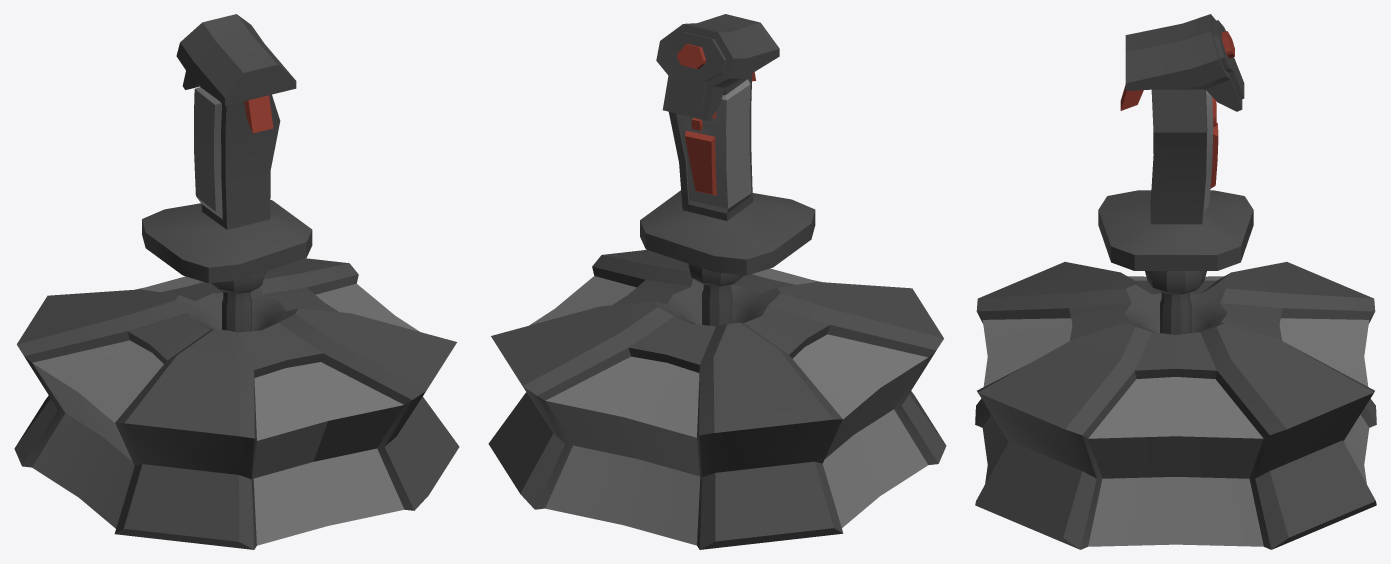
File: Spaceship_Joystick_01.fbx
The picture shows the model from 3 angles, left to right: view 1: azimuth 30°, elevation 25°; view 2: azimuth 150°, elevation 25°; view 3: azimuth 270°, elevation 25°; orthographic projection. The views are drawn at different scales.
Visible parts, largest first — view 1: Joystick (Base), Joystick (Stick); view 2: Joystick (Base), Joystick (Stick); view 3: Joystick (Base), Joystick (Stick).
Boxes of the visible parts, x1,y1,x2,y2 form: Joystick (Base): (14, 258, 459, 549); Joystick (Stick): (142, 14, 312, 332); Joystick (Base): (488, 250, 946, 549); Joystick (Stick): (640, 14, 815, 326); Joystick (Base): (975, 262, 1376, 549); Joystick (Stick): (1098, 14, 1253, 334).
Bounding box in the file's own units: 25.25 × 30.67 × 25.25.
